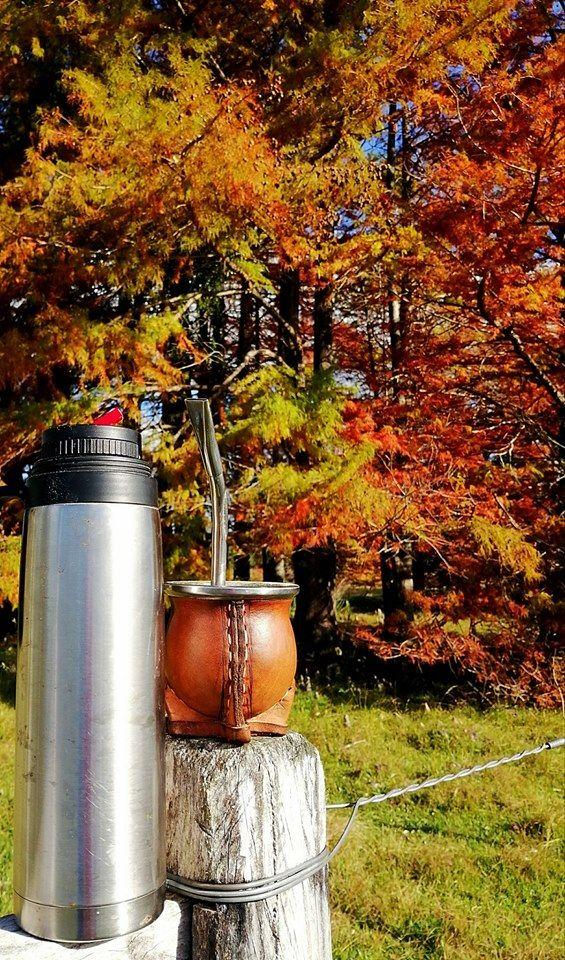madera: (166, 541, 308, 744)
mate: (168, 543, 310, 746)
